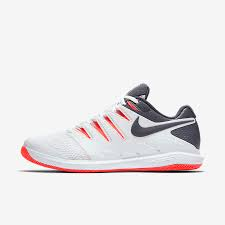nike: (130, 115, 194, 141)
